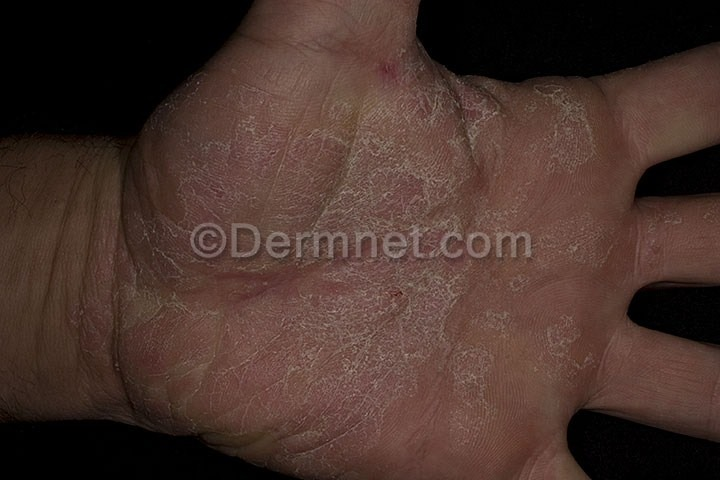Psoriasis: (141, 119, 494, 414), (529, 202, 634, 282), (519, 86, 602, 180), (536, 309, 601, 394)
